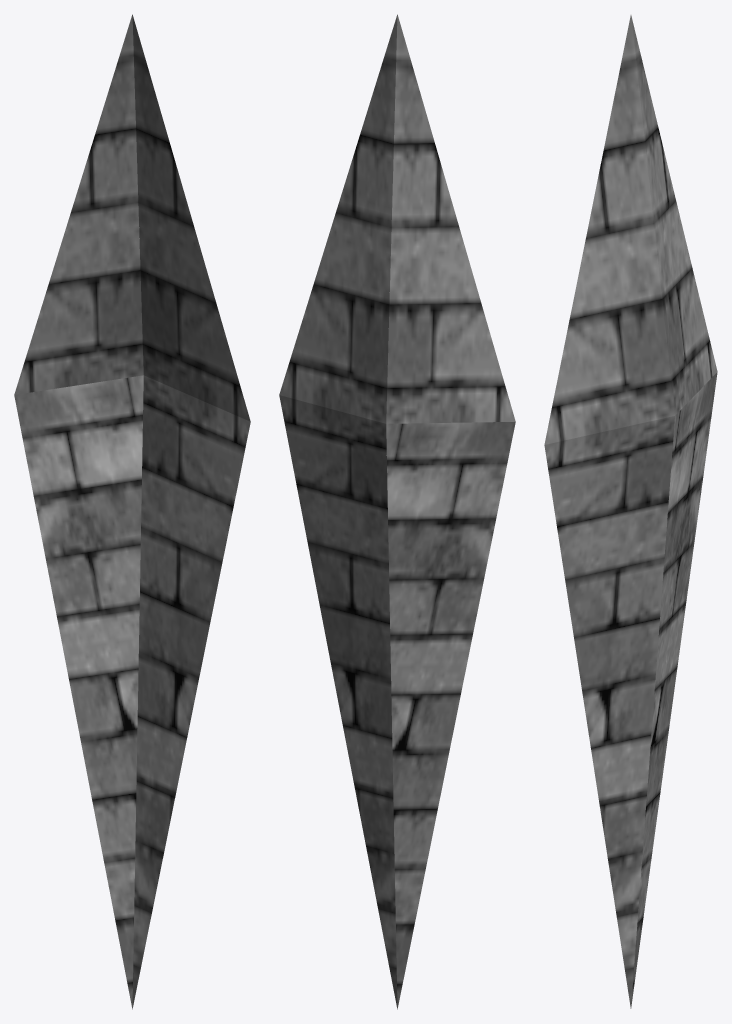
Rendered from Eckverschluß [GraueZiegelHell]_869.glb.
3 renders of one model, left to right at view 1: azimuth 30°, elevation 25°; view 2: azimuth 210°, elevation 25°; view 3: azimuth 270°, elevation 25°, orthographic.
Visible parts, largest first — view 1: pPlaneShape11, pPlaneShape10, pPlaneShape8, pPlaneShape9; view 2: pPlaneShape11, pPlaneShape10, pPlaneShape8, pPlaneShape9; view 3: pPlaneShape10, pPlaneShape9, pPlaneShape11, pPlaneShape8.
Part boxes in pixels (x1,y1,x2,y2): pPlaneShape11: (14,375,143,1009); pPlaneShape10: (132,375,250,1007); pPlaneShape8: (14,14,143,394); pPlaneShape9: (132,15,250,421); pPlaneShape11: (386,421,515,1009); pPlaneShape10: (279,395,397,1007); pPlaneShape8: (386,14,515,423); pPlaneShape9: (279,15,397,423); pPlaneShape10: (544,416,674,1008); pPlaneShape9: (544,15,674,444); pPlaneShape11: (631,372,717,1008); pPlaneShape8: (631,15,717,415).
Size of the model in its own units: 0.0549 by 0.3486 by 0.0549.
Materials: 4 (4 with a texture image).
